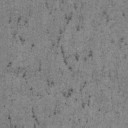oxide scale of temperature system: (6, 0, 100, 128), (102, 10, 128, 46)
